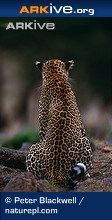leopard: (26, 56, 95, 186)
